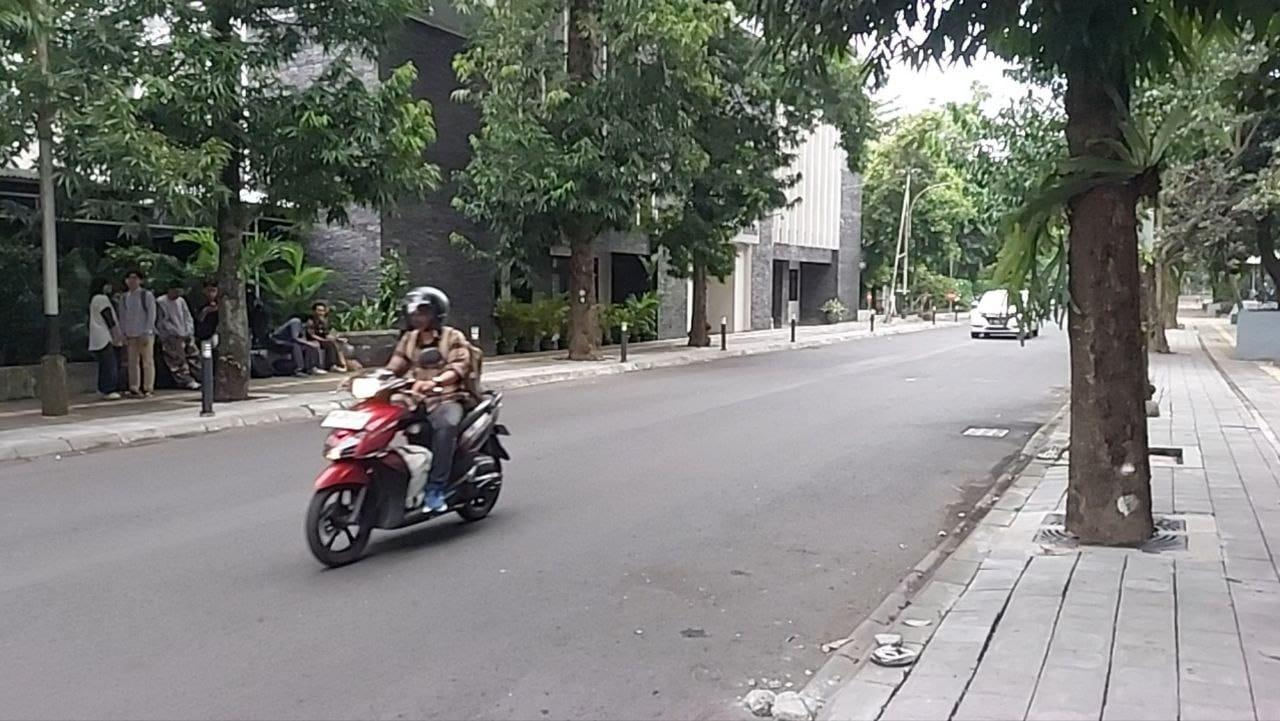helm: (400, 284, 451, 333)
riding: (305, 284, 513, 567)
